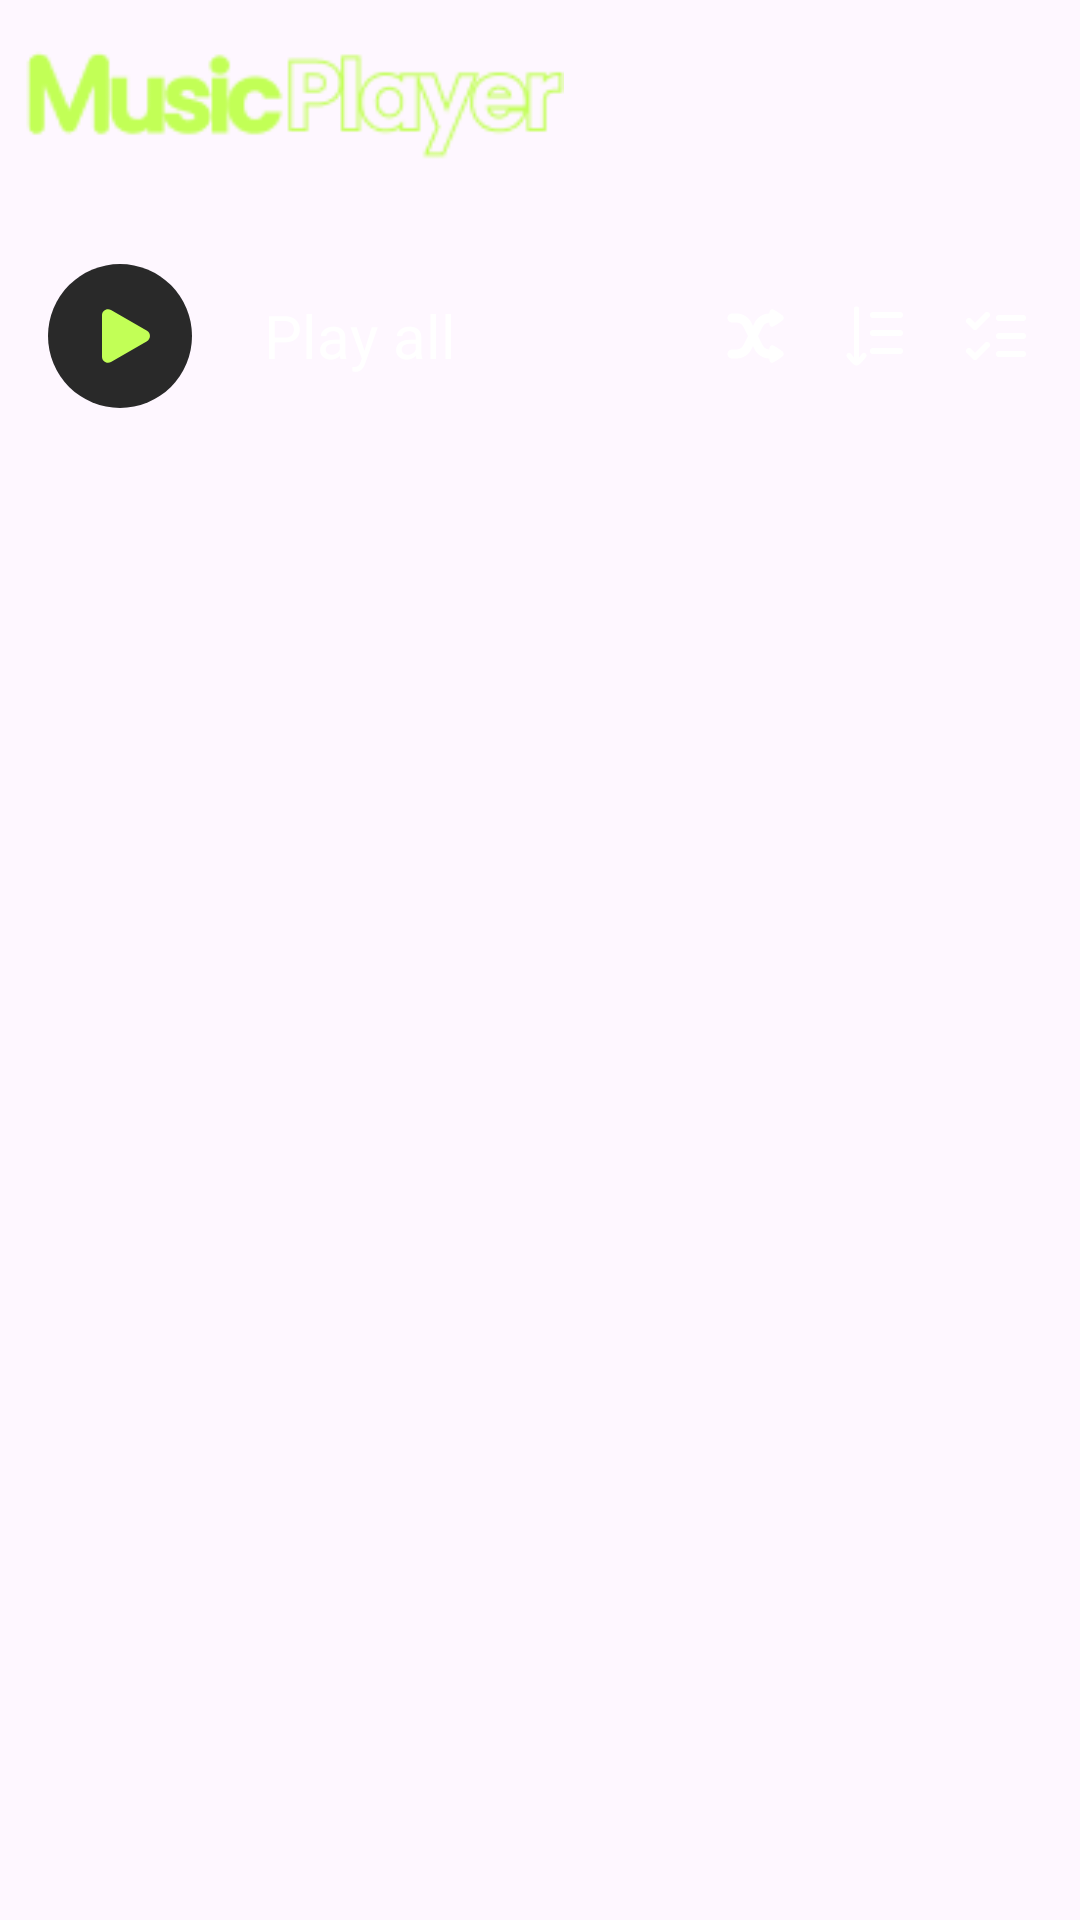

Screen size 1080*1920. Icon name, then its center in pixels as [x,y]:
playmusic: [120,336]
